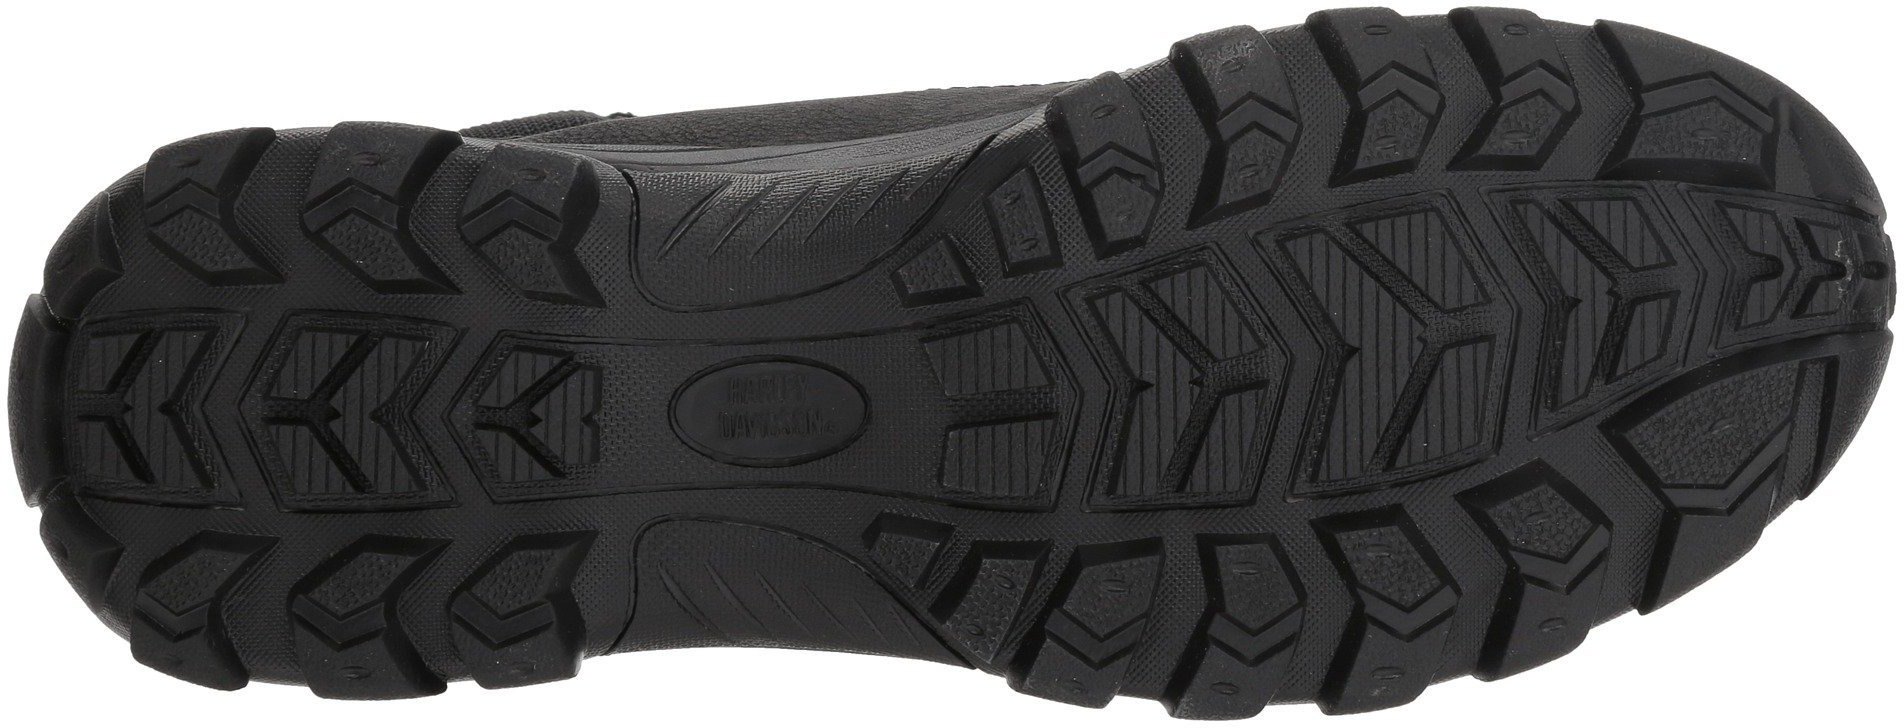chevron: (1198, 584, 1309, 681), (461, 176, 563, 269), (446, 584, 555, 662), (1203, 83, 1298, 167), (1497, 55, 1581, 123)
other: (952, 420, 1035, 496)
text: (712, 368, 818, 453)
